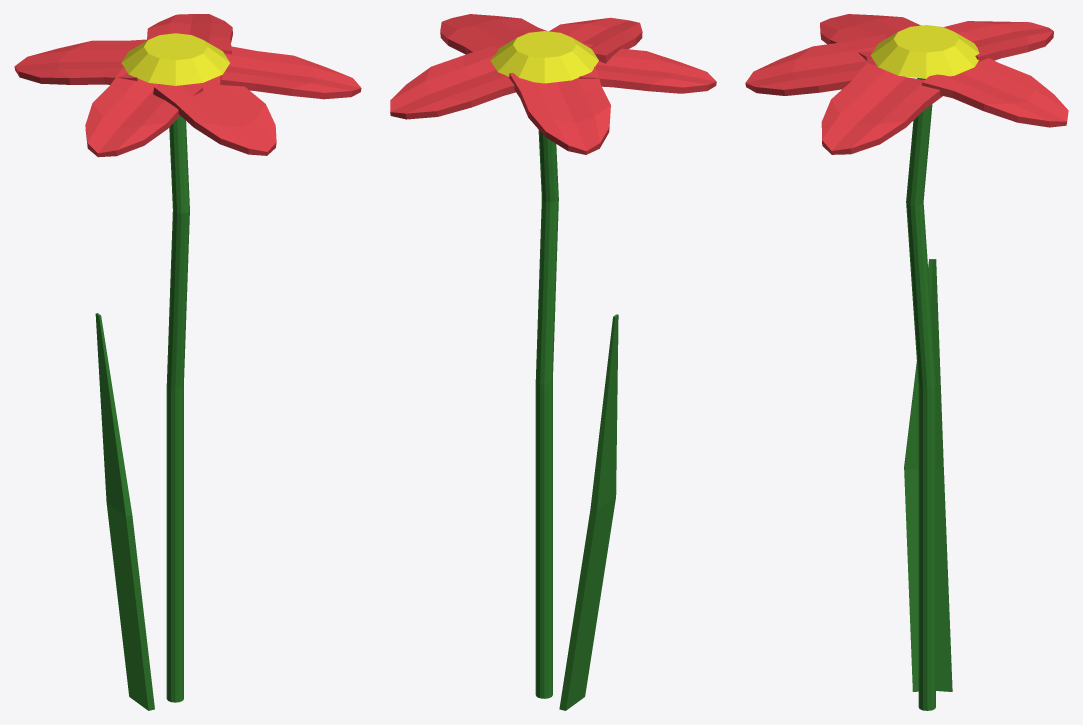
File: Flower2.1.fbx
The picture shows the model from 3 angles, left to right: view 1: azimuth 30°, elevation 25°; view 2: azimuth 150°, elevation 25°; view 3: azimuth 270°, elevation 25°; orthographic projection. The views are drawn at different scales.
Visible parts, largest first — view 1: Flower2.1; view 2: Flower2.1; view 3: Flower2.1.
Part boxes in pixels (bbox=[...]): Flower2.1: bbox=[14, 14, 361, 710]; Flower2.1: bbox=[390, 14, 716, 710]; Flower2.1: bbox=[745, 14, 1068, 710].
Size of the model in its own units: 12.74 by 29.77 by 13.05.
